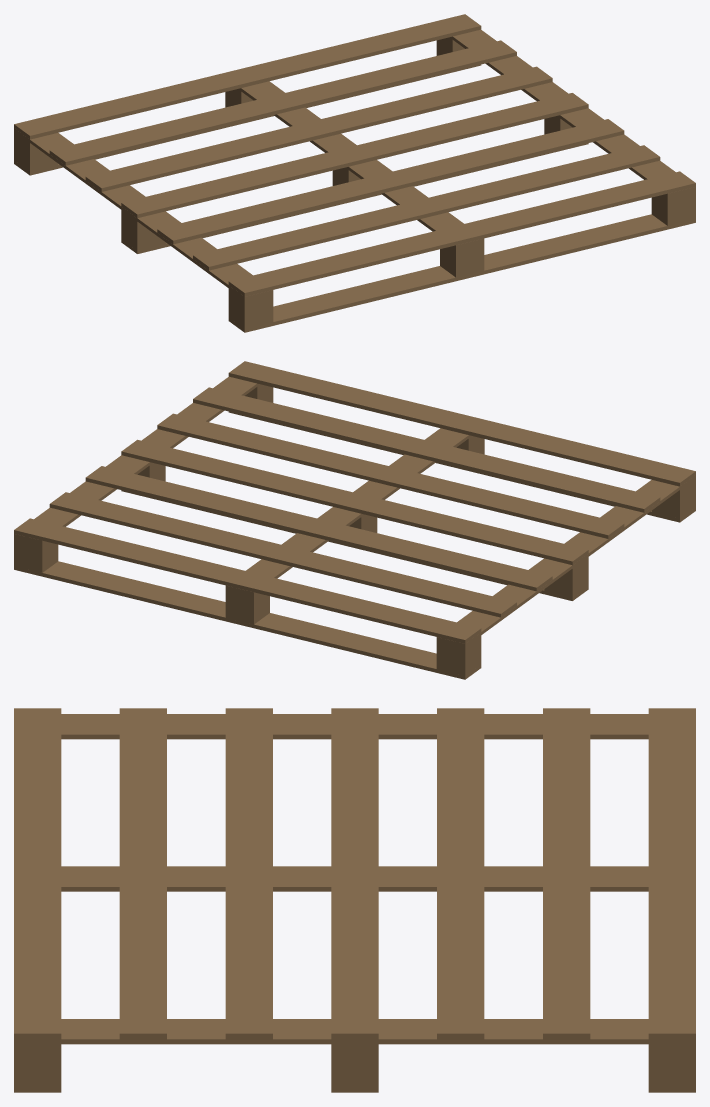
Rendered from wood-pallet.glb.
3 views of the same model, one above another, from view 1: azimuth 30°, elevation 25°; view 2: azimuth 150°, elevation 25°; view 3: azimuth 270°, elevation 25° (orthographic). The views are drawn at different scales.
Parts seen in each view (by area): view 1: wood-pallet__托盘木质001; view 2: wood-pallet__托盘木质001; view 3: wood-pallet__托盘木质001.
Boxes of the visible parts, x1,y1,x2,y2 form: wood-pallet__托盘木质001: [14, 14, 695, 332]; wood-pallet__托盘木质001: [14, 361, 695, 679]; wood-pallet__托盘木质001: [14, 708, 695, 1092].
Size of the model in its own units: 1.23 by 0.1031 by 1.09.
